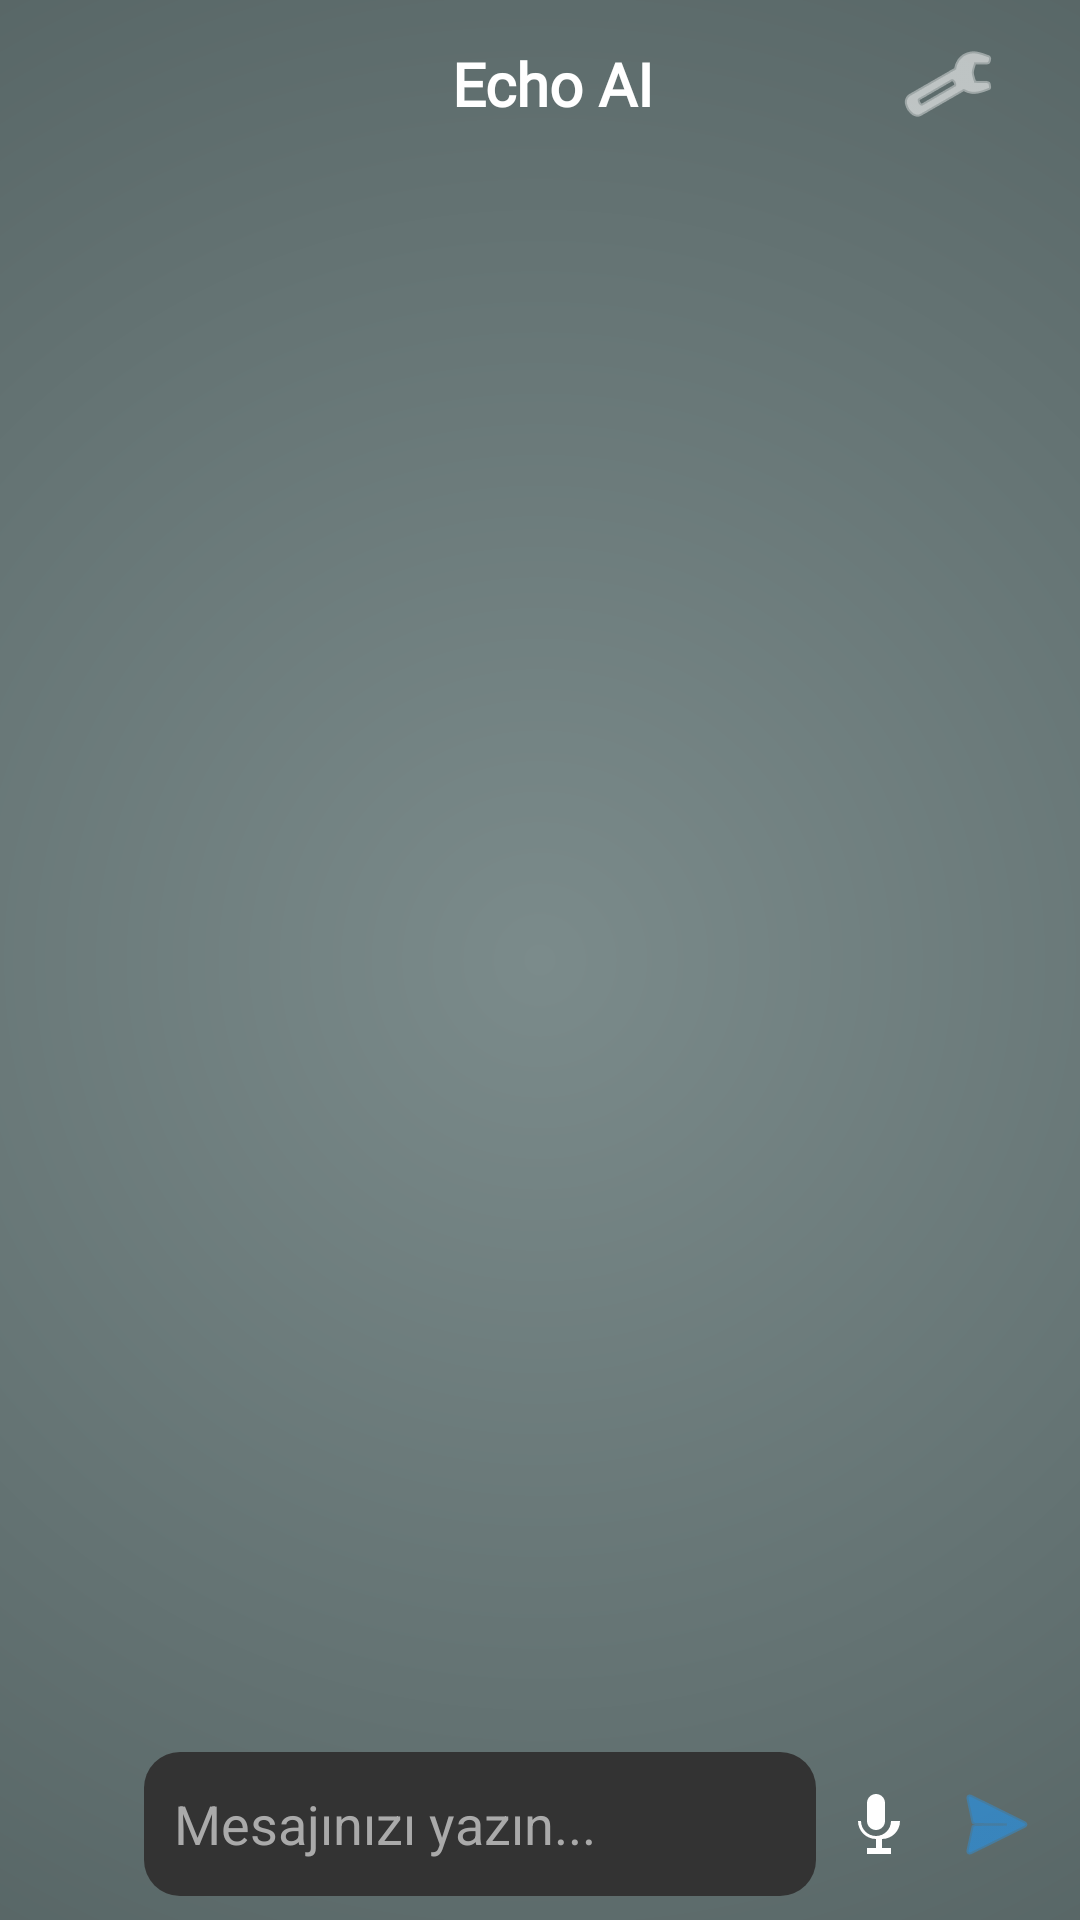

Icon bounding boxes for this 1080 × 1920 phone screenshot, format (x1, y1, x2, y2):
Ayarlar: (905, 51, 991, 117)
Gönder: (966, 1794, 1027, 1855)
Mic: (858, 1794, 900, 1854)
